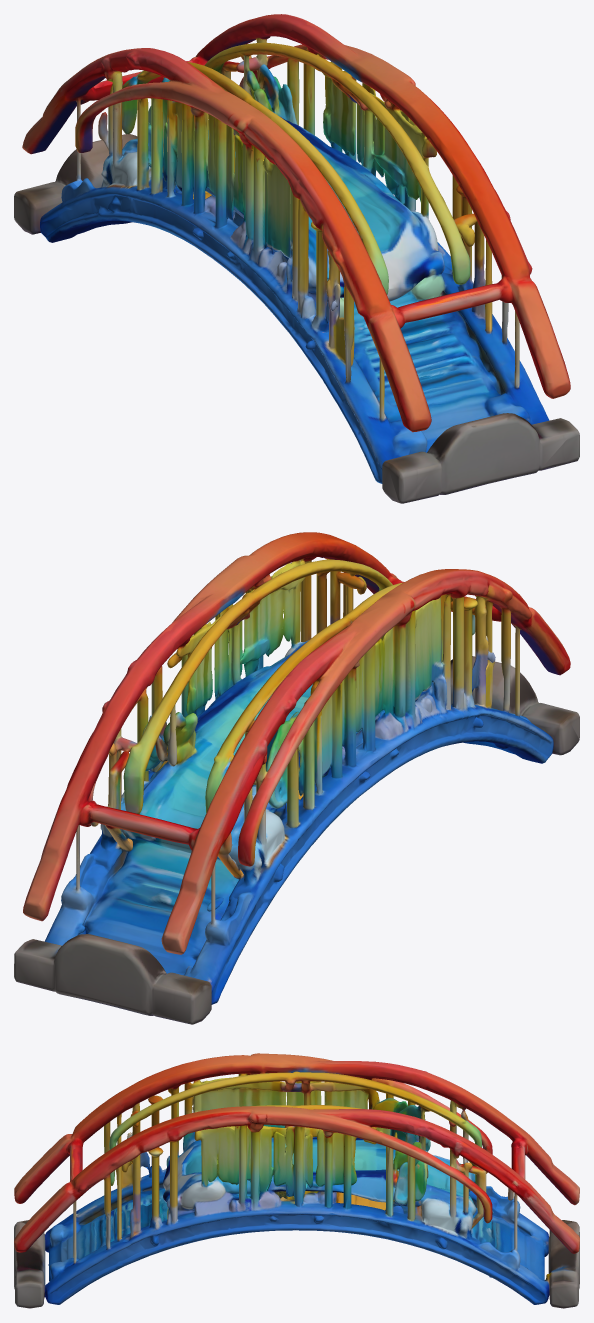
The model's file is city-bridge-rainbow.glb.
3 renders of one model, top to bottom at view 1: azimuth 30°, elevation 25°; view 2: azimuth 150°, elevation 25°; view 3: azimuth 270°, elevation 25°, orthographic. The views are drawn at different scales.
Visible parts, largest first — view 1: tripo_node_df5782e1-79b3-4714-b26c-449b20a18c26; view 2: tripo_node_df5782e1-79b3-4714-b26c-449b20a18c26; view 3: tripo_node_df5782e1-79b3-4714-b26c-449b20a18c26.
Boxes of the visible parts, x1=… form: tripo_node_df5782e1-79b3-4714-b26c-449b20a18c26: x1=14, y1=14, x2=579, y2=503; tripo_node_df5782e1-79b3-4714-b26c-449b20a18c26: x1=14, y1=532, x2=579, y2=1024; tripo_node_df5782e1-79b3-4714-b26c-449b20a18c26: x1=14, y1=1053, x2=579, y2=1308.
Bounding box in the file's own units: 3.51 × 5 × 13.05.
Materials: 1 (1 with a texture image).
